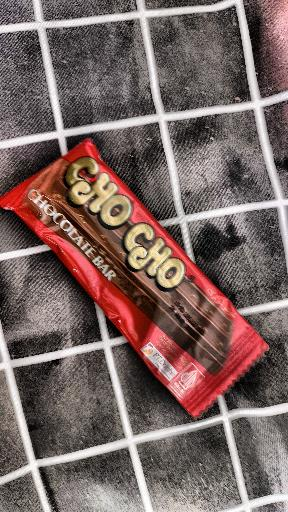chocho: (2, 129, 272, 423)
